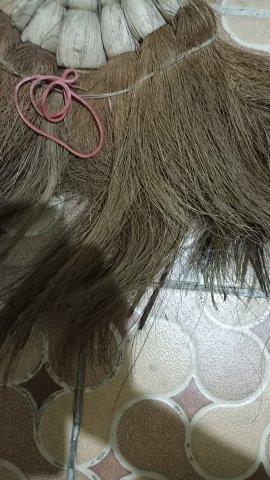karet: (14, 68, 104, 158)
